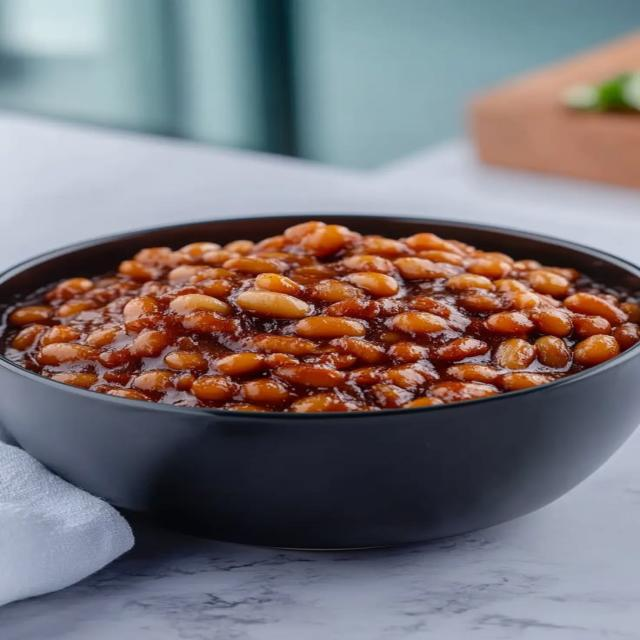beans: (2, 222, 639, 411), (236, 290, 310, 319), (564, 293, 627, 325), (300, 225, 357, 257), (275, 365, 346, 387), (296, 316, 366, 338), (394, 257, 459, 280), (431, 381, 499, 402), (574, 335, 619, 366), (383, 363, 438, 388), (37, 343, 98, 365), (332, 338, 385, 363), (346, 272, 399, 297), (434, 337, 489, 361), (494, 338, 536, 369), (389, 312, 448, 334), (170, 294, 231, 315), (122, 297, 158, 332), (216, 352, 266, 376), (241, 379, 289, 404), (252, 336, 315, 355), (311, 280, 363, 303), (325, 297, 379, 319), (181, 312, 237, 333), (530, 309, 573, 336), (535, 336, 571, 368), (459, 290, 508, 313), (191, 376, 236, 401), (405, 233, 461, 253), (529, 270, 569, 297), (222, 257, 285, 274), (486, 312, 534, 334), (467, 256, 511, 280), (447, 363, 499, 383), (291, 394, 348, 412), (47, 278, 93, 300), (362, 236, 410, 257), (371, 384, 413, 408), (130, 330, 167, 357), (499, 372, 554, 390), (284, 221, 326, 244), (255, 274, 301, 295), (411, 296, 453, 318), (342, 255, 393, 273), (9, 305, 53, 325), (132, 370, 173, 391), (12, 325, 46, 350), (574, 316, 612, 338), (165, 351, 206, 370), (314, 353, 357, 371), (41, 325, 81, 344), (180, 242, 220, 261), (447, 274, 494, 290), (388, 343, 427, 362), (348, 367, 385, 387), (419, 250, 464, 266), (51, 373, 98, 388), (119, 261, 154, 281), (56, 300, 97, 317), (134, 247, 172, 265), (86, 327, 120, 347), (614, 323, 639, 350), (98, 349, 132, 368), (202, 250, 239, 267), (199, 280, 233, 298), (103, 388, 150, 401), (472, 250, 514, 264), (254, 235, 287, 251), (512, 292, 541, 309), (494, 279, 529, 293), (264, 354, 299, 368), (545, 267, 579, 281), (224, 240, 254, 255), (102, 371, 133, 385), (620, 303, 639, 324), (405, 398, 444, 408), (225, 403, 271, 411), (174, 374, 195, 390), (513, 260, 542, 271), (380, 332, 405, 343)
